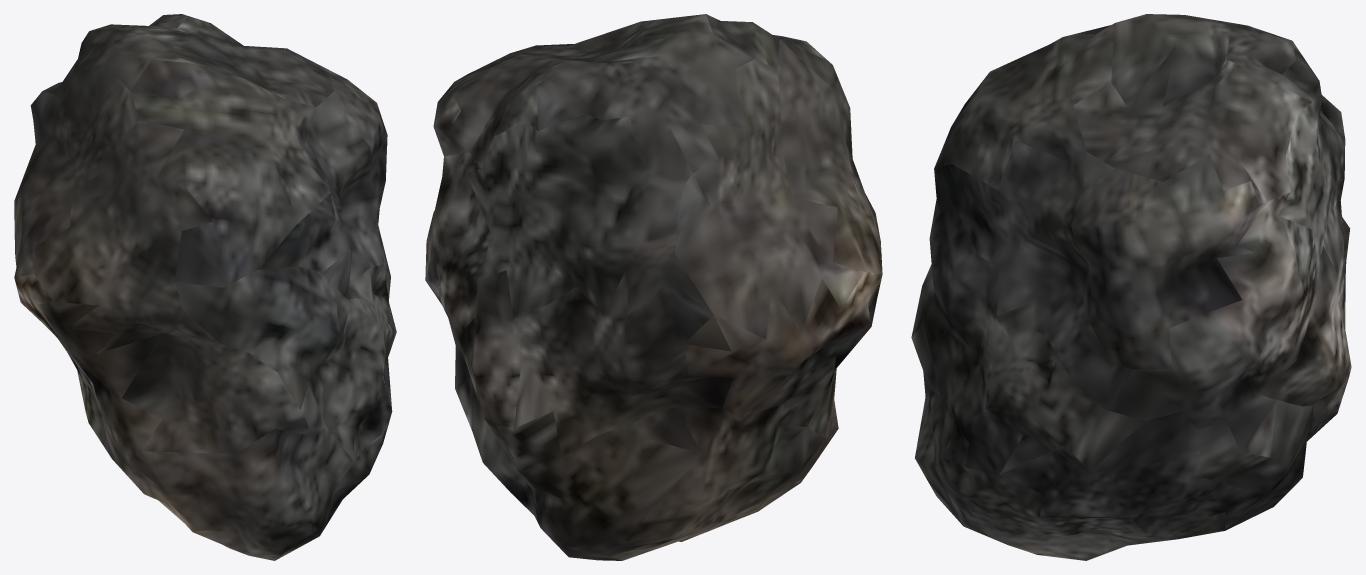
Rendered from asteroid_04.glb.
3 views of the same model, side by side, from view 1: azimuth 30°, elevation 25°; view 2: azimuth 150°, elevation 25°; view 3: azimuth 270°, elevation 25° (orthographic). The views are drawn at different scales.
Parts seen in each view (by area): view 1: Mesh_0.004; view 2: Mesh_0.004; view 3: Mesh_0.004.
Part boxes in pixels (box(x1,y1,x2,y2)): Mesh_0.004: box(14, 14, 396, 560); Mesh_0.004: box(425, 14, 882, 560); Mesh_0.004: box(911, 14, 1351, 560).
Bounding box in the file's own units: 0.3421 × 0.4436 × 0.3469.
1 material, 1 textured.
